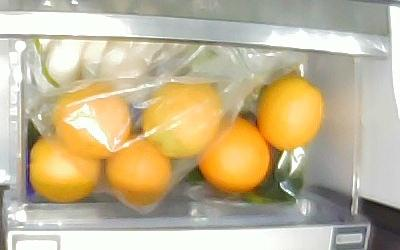orange: (194, 118, 270, 193), (254, 73, 324, 151), (29, 135, 103, 201), (107, 135, 173, 204)
orange_vinyl: (141, 82, 220, 157), (50, 84, 130, 157)
